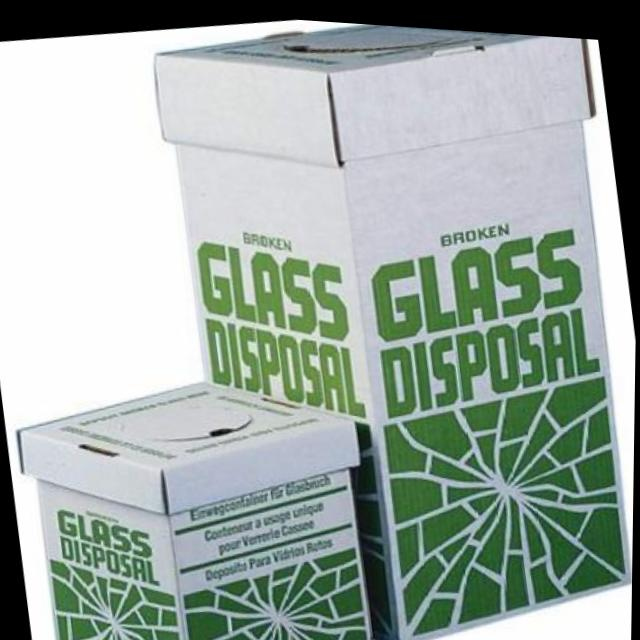box: (132, 7, 640, 640), (0, 332, 394, 640)
